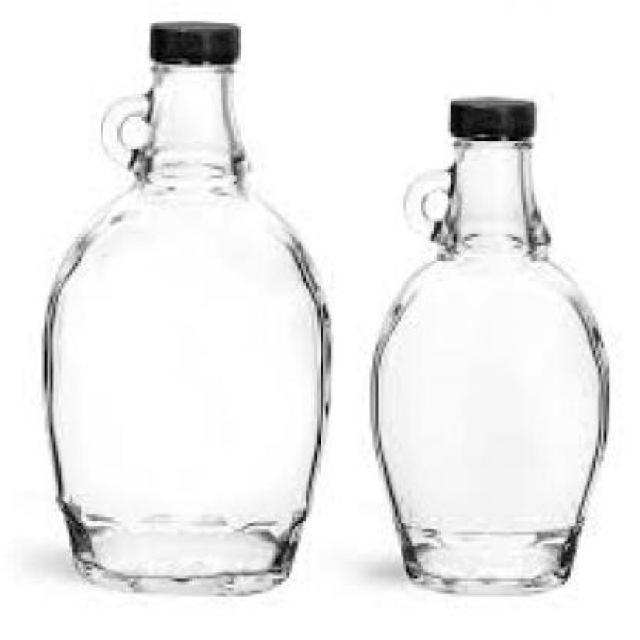kaca: (45, 58, 328, 594), (371, 134, 606, 591)
